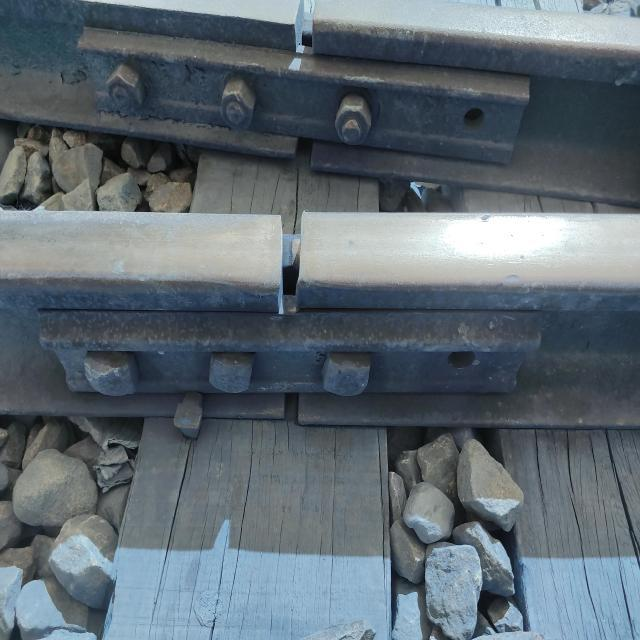Defective Joint: (74, 15, 547, 169), (41, 312, 549, 424)
